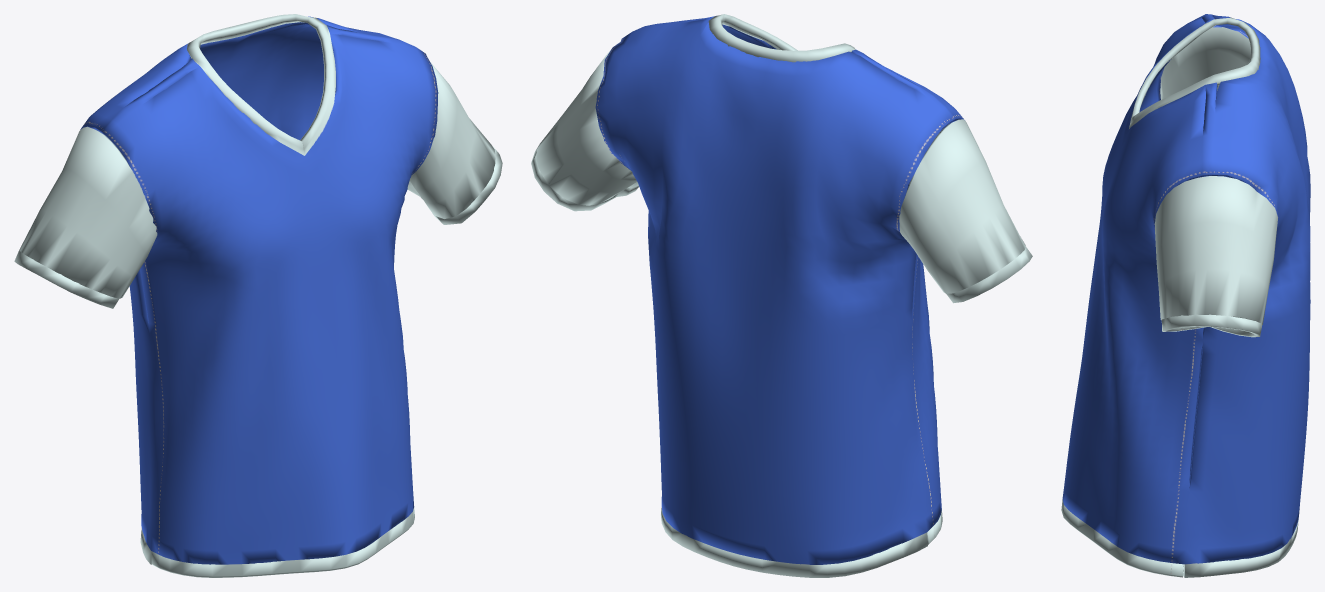
Rendered from camisa.glb.
3 renders of one model, left to right at view 1: azimuth 30°, elevation 25°; view 2: azimuth 150°, elevation 25°; view 3: azimuth 270°, elevation 25°, orthographic. The views are drawn at different scales.
Visible parts, largest first — view 1: 0RetopoMain.004; view 2: 0RetopoMain.004; view 3: 0RetopoMain.004.
Boxes of the visible parts, <box> form: 0RetopoMain.004: <box>14,14,502,577</box>; 0RetopoMain.004: <box>531,14,1032,577</box>; 0RetopoMain.004: <box>1061,14,1310,577</box>.
Bounding box in the file's own units: 0.7573 × 0.7599 × 0.3551.
Materials: 1 (1 with a texture image).
